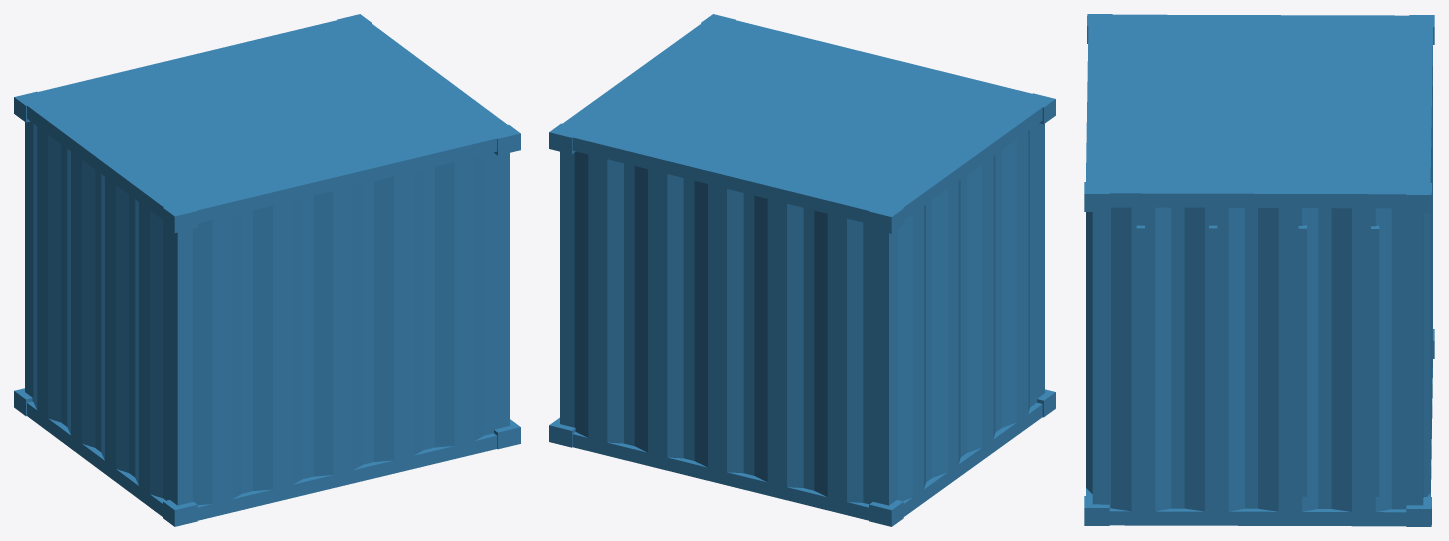
Rendered from SkyBlueContainer.fbx.
3 renders of one model, left to right at view 1: azimuth 30°, elevation 25°; view 2: azimuth 150°, elevation 25°; view 3: azimuth 270°, elevation 25°, orthographic. The views are drawn at different scales.
Parts seen in each view (by area): view 1: Container_LP_SkyBlue; view 2: Container_LP_SkyBlue; view 3: Container_LP_SkyBlue.
Boxes of the visible parts, x1,y1,x2,y2 form: Container_LP_SkyBlue: (14, 14, 520, 526); Container_LP_SkyBlue: (549, 14, 1055, 526); Container_LP_SkyBlue: (1084, 14, 1434, 526).
Bounding box in the file's own units: 306 × 259 × 248.
